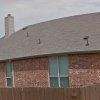Chimney: (2, 10, 20, 45)
